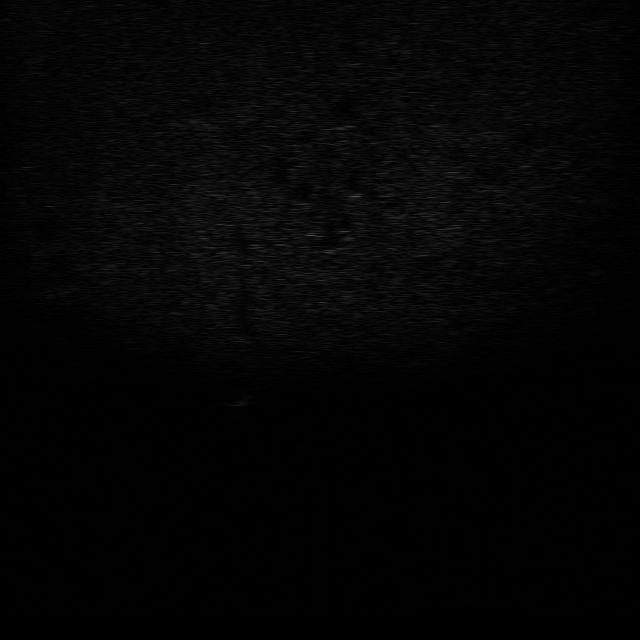human body: (226, 372, 264, 418)
